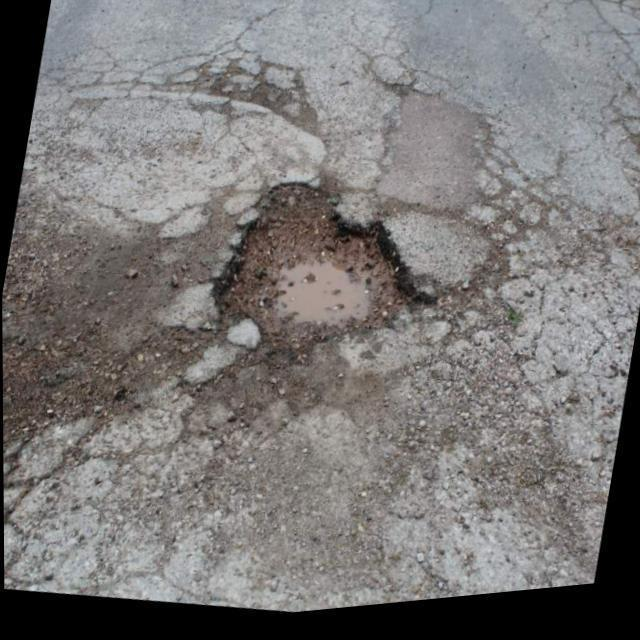Pothole: (208, 181, 428, 372)
